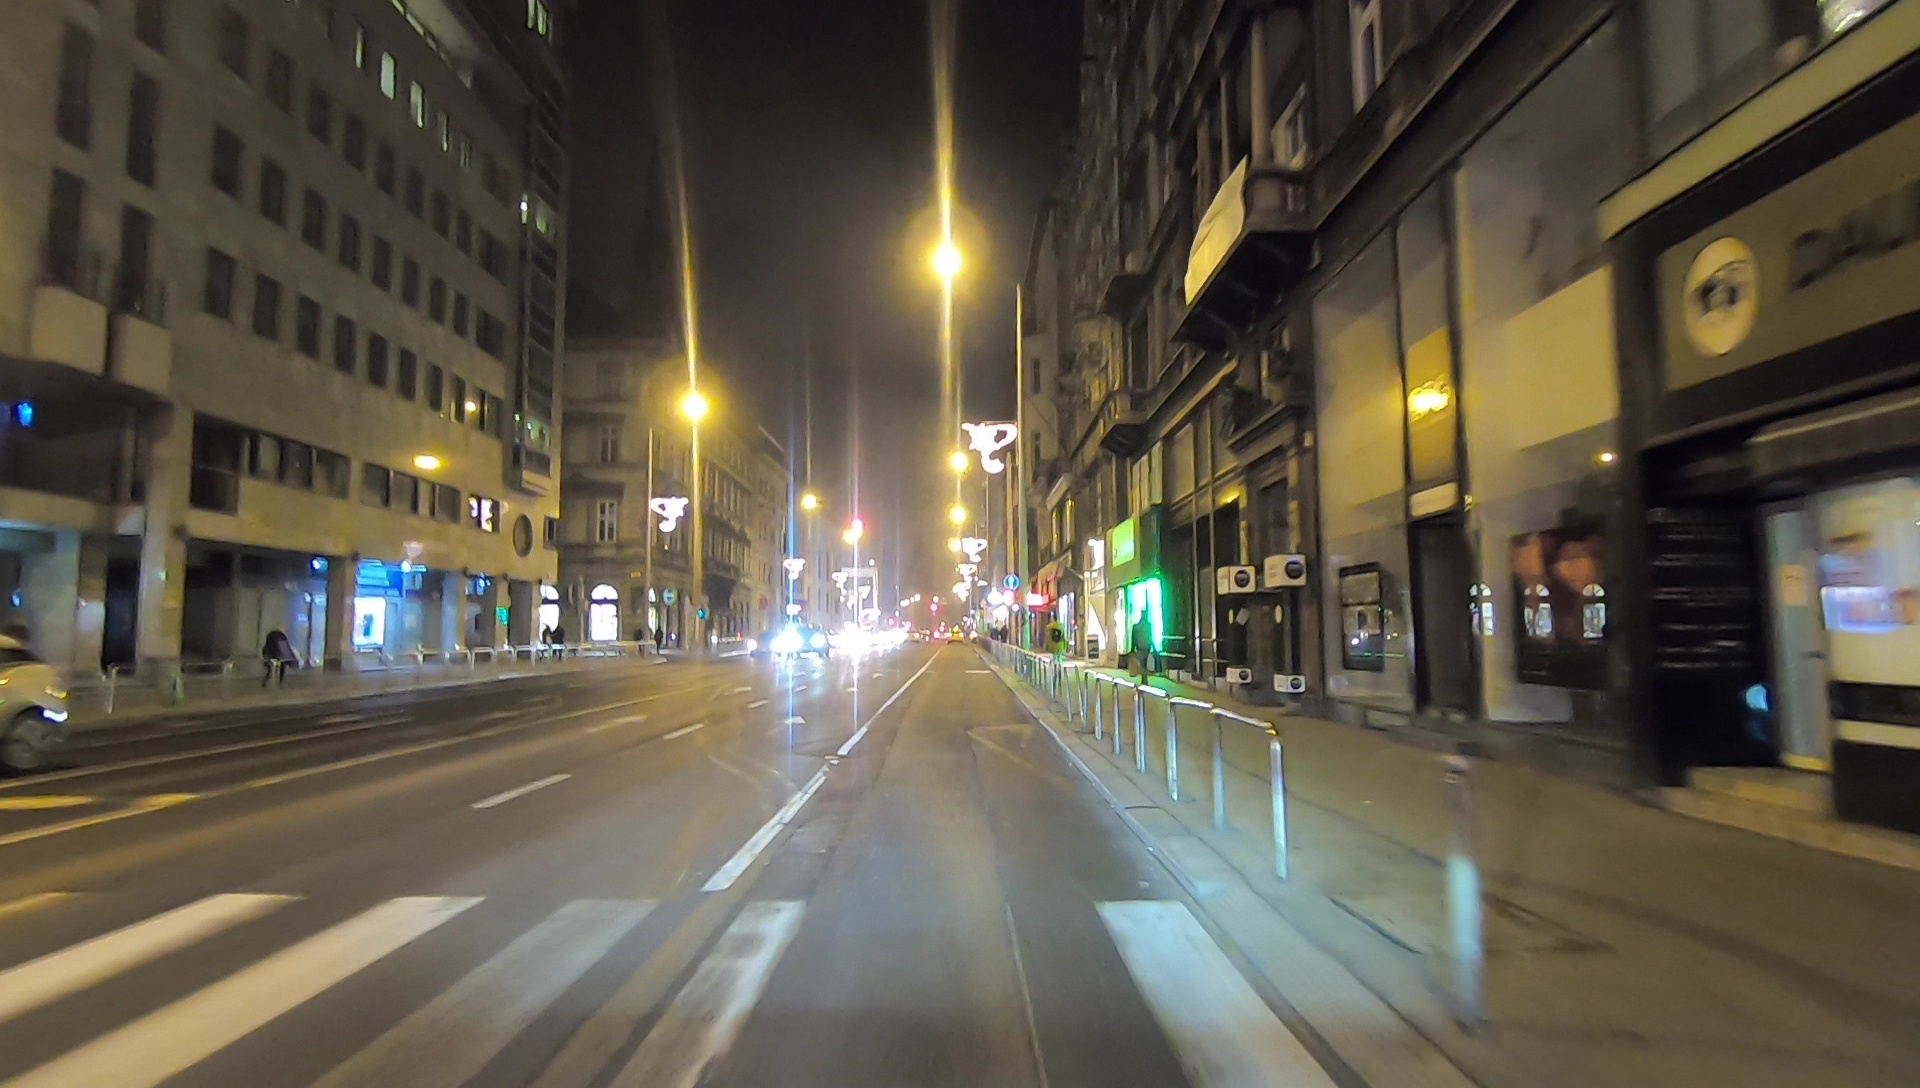person: (260, 626, 293, 687), (1132, 608, 1156, 682), (1044, 617, 1064, 675), (538, 620, 554, 663), (553, 624, 564, 660), (655, 624, 663, 655), (999, 624, 1007, 655)
